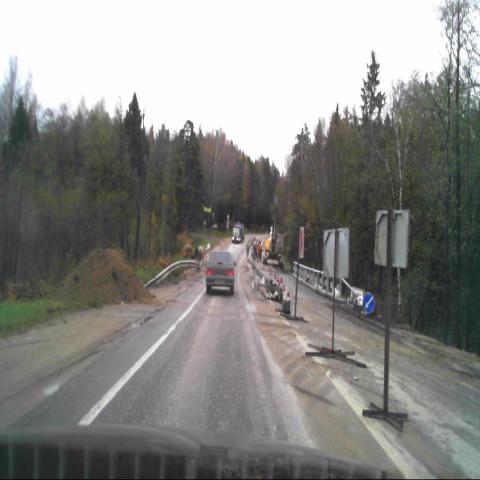4_2_2: (362, 292, 374, 314)
